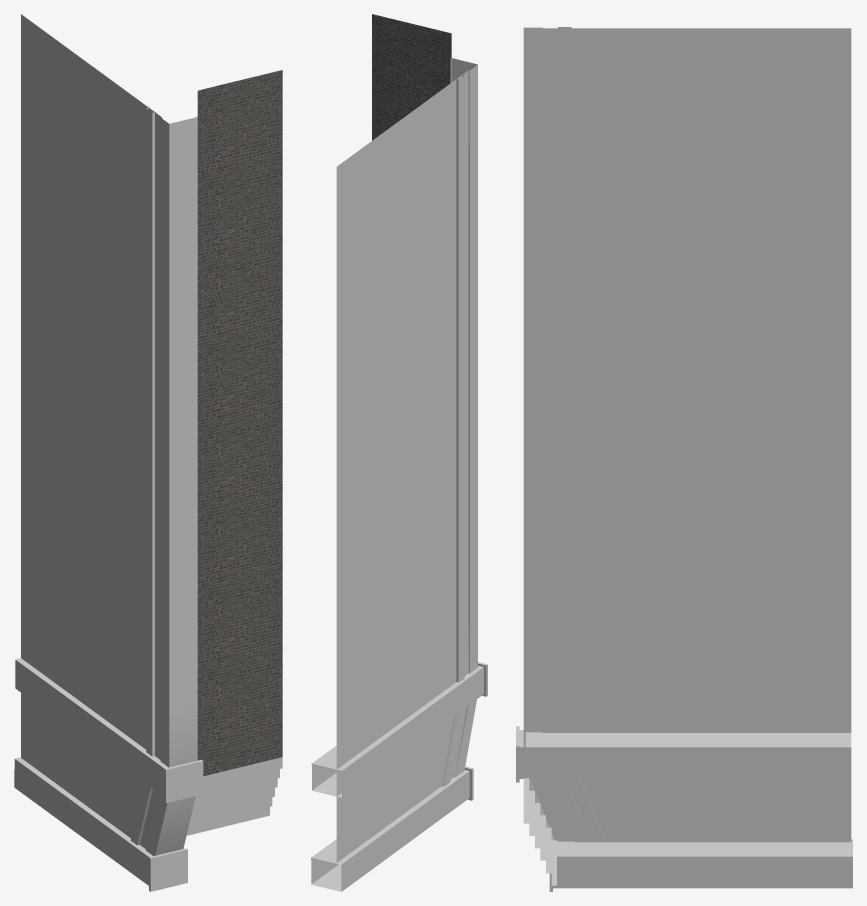
The model's file is env_112_06_WideBridge_ctf7.glb.
3 views of the same model, side by side, from view 1: azimuth 30°, elevation 25°; view 2: azimuth 150°, elevation 25°; view 3: azimuth 270°, elevation 25° (orthographic). The views are drawn at different scales.
Visible parts, largest first — view 1: set_0_group_1, set_0_group_0; view 2: set_0_group_1, set_0_group_0; view 3: set_0_group_1.
Part boxes in pixels (box(x1,y1,x2,y2)): set_0_group_1: box(14, 14, 282, 891); set_0_group_0: box(197, 70, 282, 776); set_0_group_1: box(311, 58, 487, 891); set_0_group_0: box(372, 14, 451, 140); set_0_group_1: box(516, 27, 852, 891).
Bounding box in the file's own units: 5.01 × 31.95 × 11.13.
2 materials, 1 textured.
